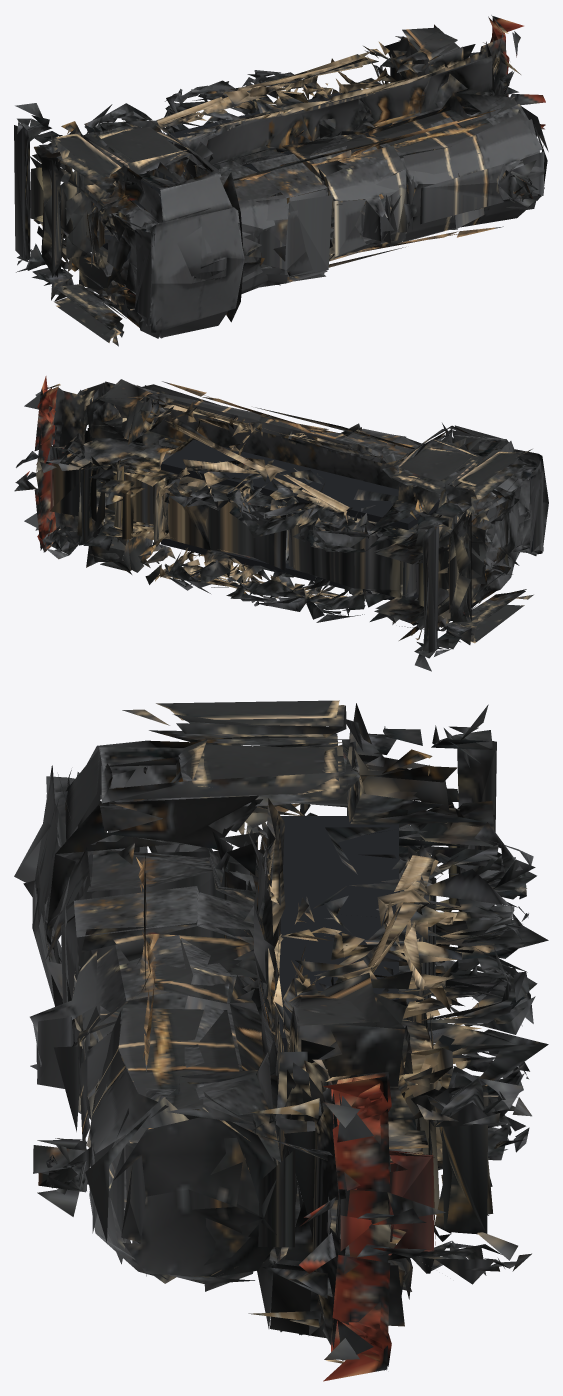
File: black_five_engine_r005.glb
3 renders of one model, top to bottom at view 1: azimuth 30°, elevation 25°; view 2: azimuth 150°, elevation 25°; view 3: azimuth 270°, elevation 25°, orthographic. The views are drawn at different scales.
Visible parts, largest first — view 1: part_engine.001, skirt_engine.001; view 2: part_engine.001, skirt_engine.001; view 3: part_engine.001, skirt_engine.001.
Part boxes in pixels (box(x1,y1,x2,y2)): part_engine.001: box(14, 15, 548, 346); skirt_engine.001: box(97, 89, 392, 262); part_engine.001: box(14, 376, 548, 671); skirt_engine.001: box(161, 439, 439, 600); part_engine.001: box(14, 700, 548, 1381); skirt_engine.001: box(279, 816, 398, 1142).
Size of the model in its own units: 7.68 by 2.98 by 4.26.
2 materials, 1 textured.
